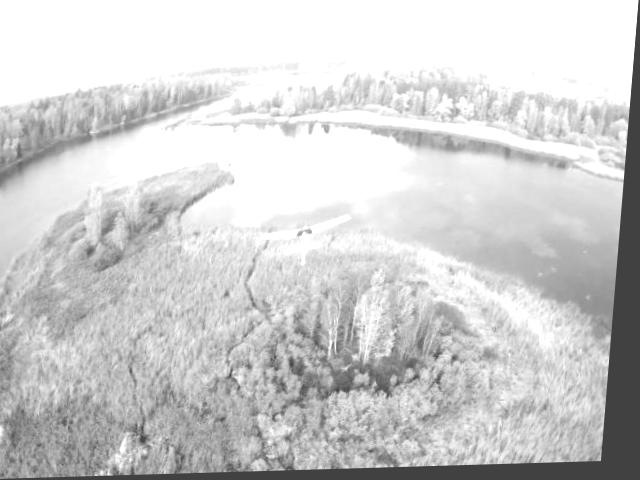hedef: (259, 208, 362, 276)
